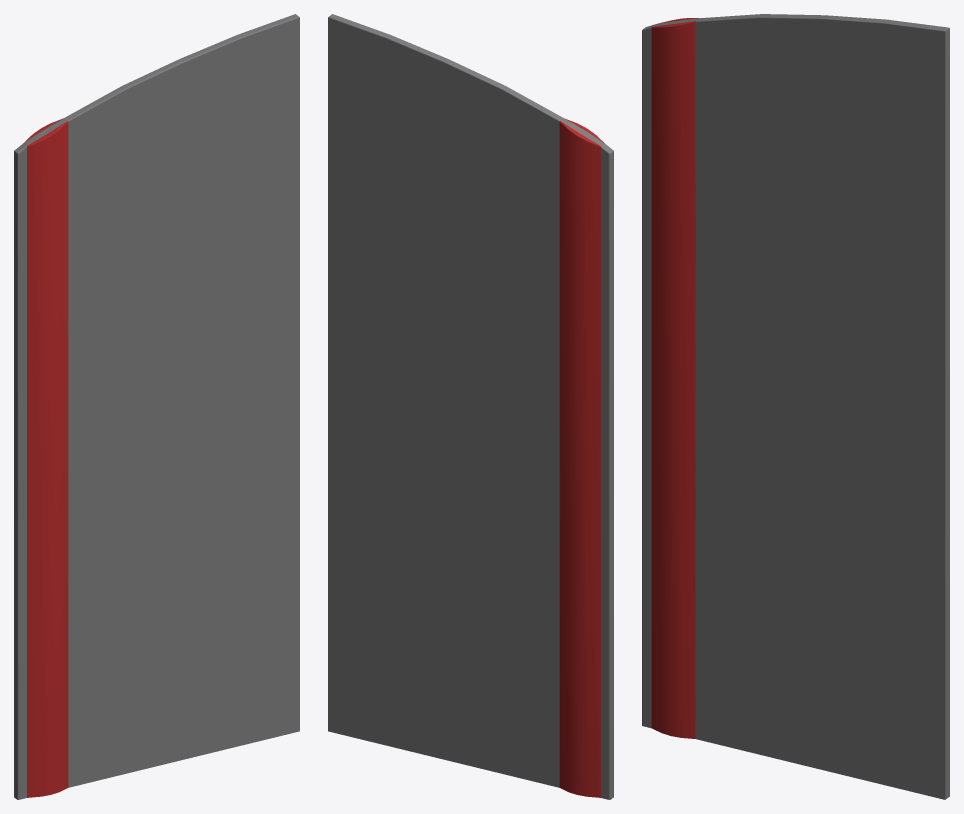
File: SM_Shelf_Wood_Element_01.fbx
The picture shows the model from 3 angles, left to right: view 1: azimuth 30°, elevation 25°; view 2: azimuth 150°, elevation 25°; view 3: azimuth 330°, elevation 25°; orthographic projection. The views are drawn at different scales.
Visible parts, largest first — view 1: SM_Shelf_Wood_Element_01; view 2: SM_Shelf_Wood_Element_01; view 3: SM_Shelf_Wood_Element_01.
Boxes of the visible parts, box(x1,y1,x2,y2) form: SM_Shelf_Wood_Element_01: box(14, 14, 299, 799); SM_Shelf_Wood_Element_01: box(328, 14, 613, 799); SM_Shelf_Wood_Element_01: box(642, 14, 949, 799).
Bounding box in the file's own units: 62.62 × 152 × 3.86.
